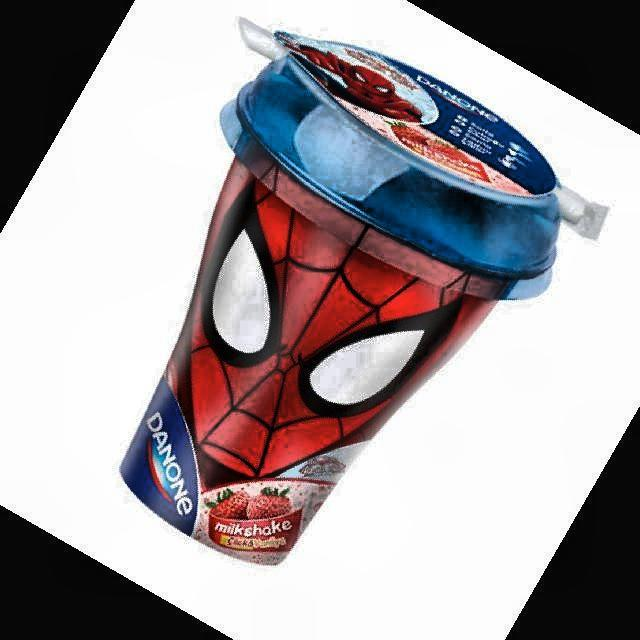plastic: (121, 32, 561, 557)
